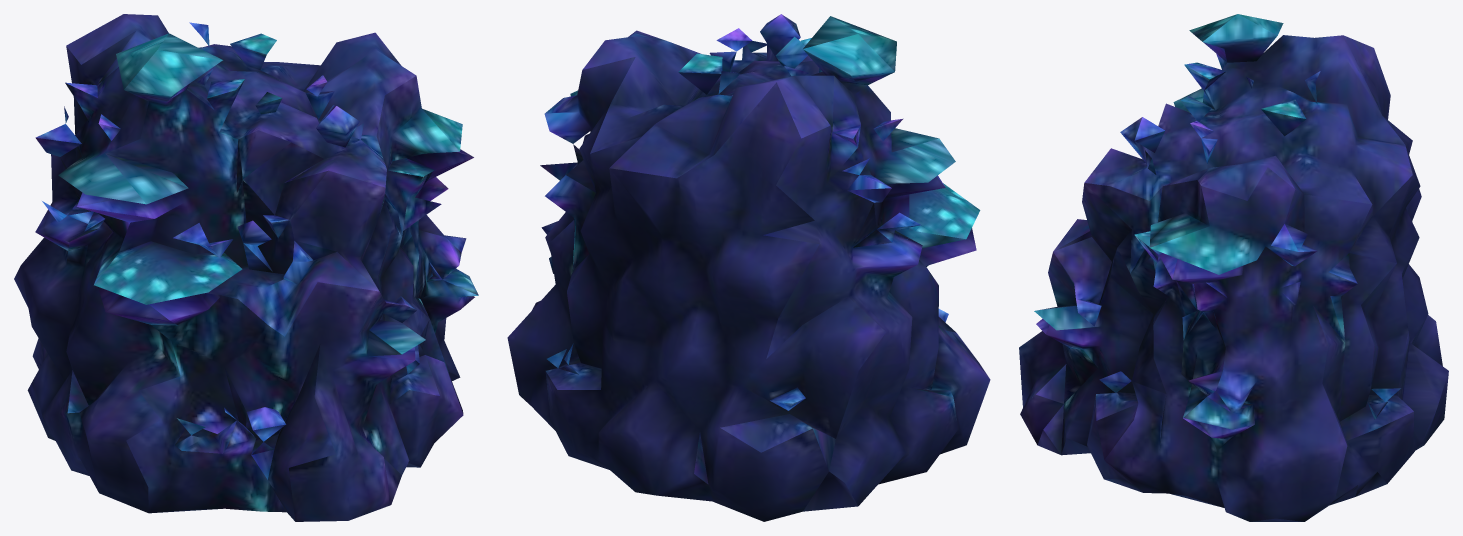
Rendered from d_mycelium_massif.glb.
The picture shows the model from 3 angles, left to right: view 1: azimuth 30°, elevation 25°; view 2: azimuth 150°, elevation 25°; view 3: azimuth 270°, elevation 25°; orthographic projection. The views are drawn at different scales.
Visible parts, largest first — view 1: geometry_0; view 2: geometry_0; view 3: geometry_0.
Boxes of the visible parts, x1,y1,x2,y2 form: geometry_0: [14, 14, 478, 521]; geometry_0: [507, 14, 990, 521]; geometry_0: [1019, 14, 1448, 521].
Bounding box in the file's own units: 1 × 0.9721 × 0.9811.
1 material, 1 textured.
